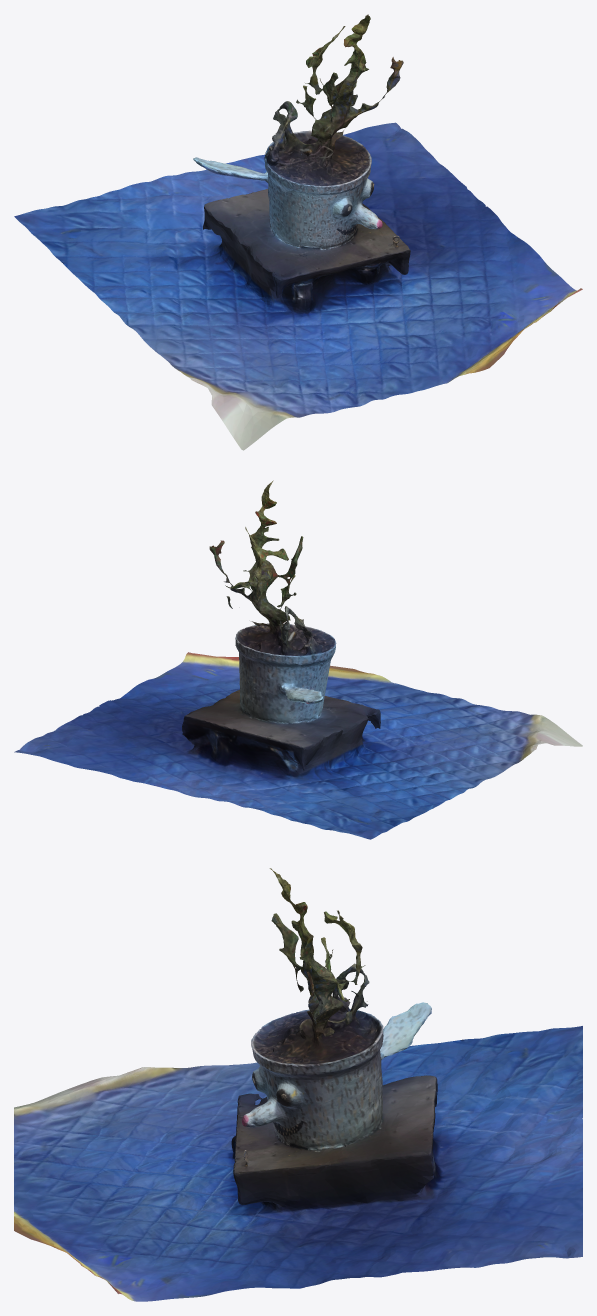
The model's file is narizon.glb.
The picture shows the model from 3 angles, top to bottom: view 1: azimuth 30°, elevation 25°; view 2: azimuth 150°, elevation 25°; view 3: azimuth 270°, elevation 25°; orthographic projection. The views are drawn at different scales.
Size of the model in its own units: 1.4 by 1.07 by 1.45.
Materials: 1 (1 with a texture image).
